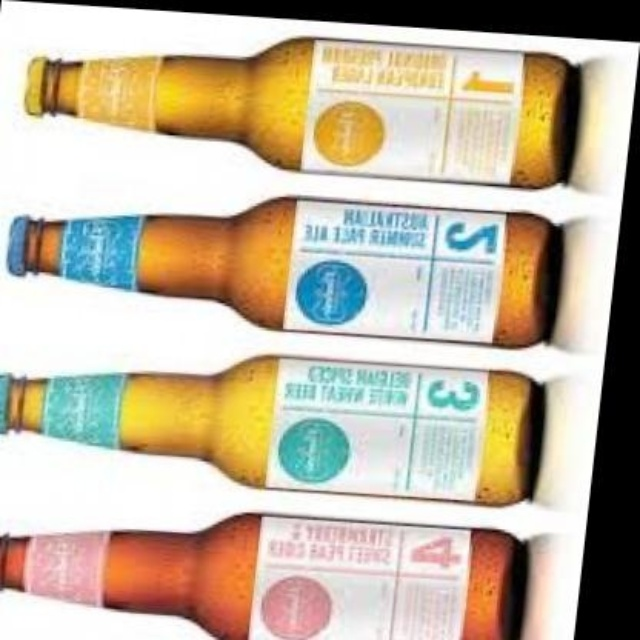trash: (25, 38, 575, 186), (8, 198, 558, 345), (0, 357, 537, 503), (0, 514, 523, 638)
